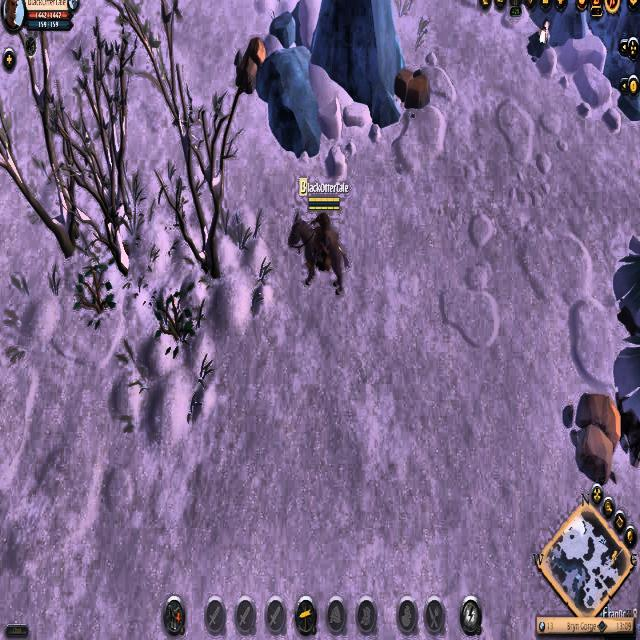copperore: (528, 15, 553, 58)
limestone: (567, 387, 621, 488), (231, 34, 264, 99), (391, 58, 432, 110)
